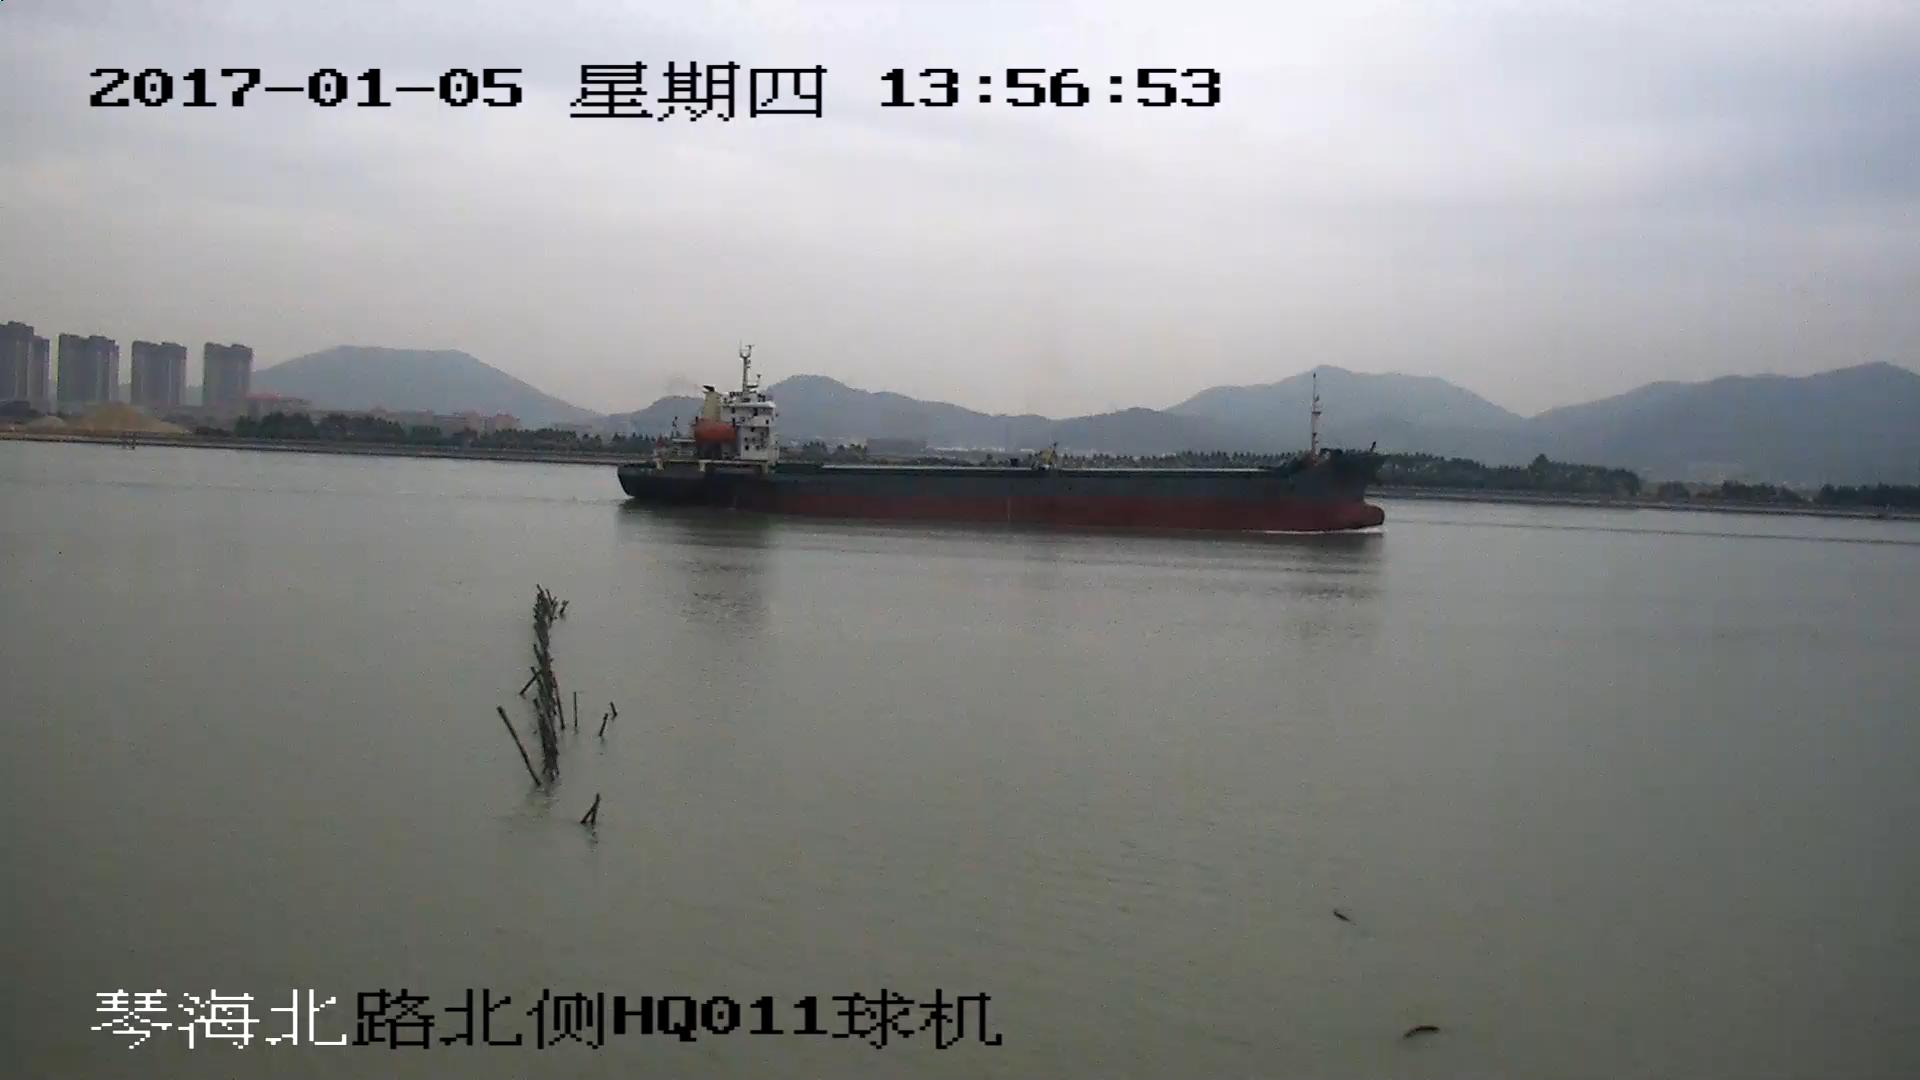general cargo ship: (616, 351, 1382, 531)
